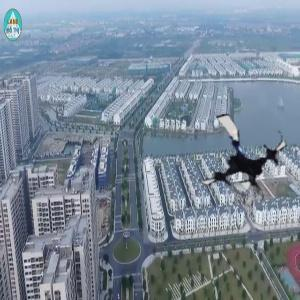drone: (187, 104, 289, 206)
